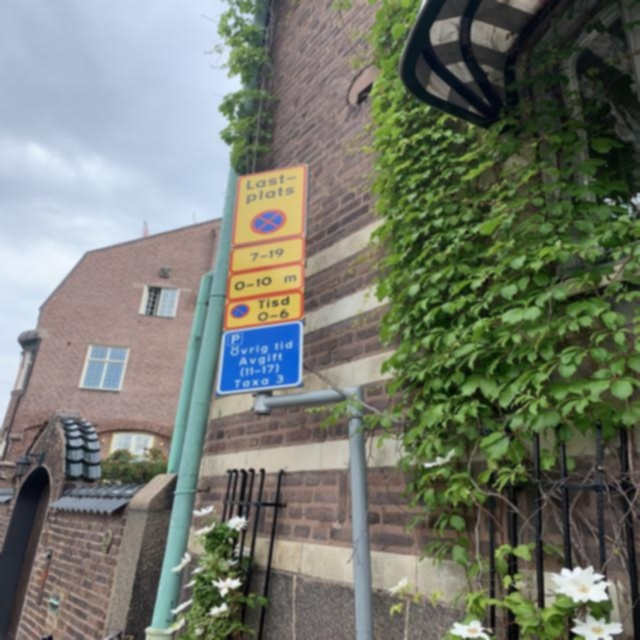lastplats: (226, 161, 312, 247)
